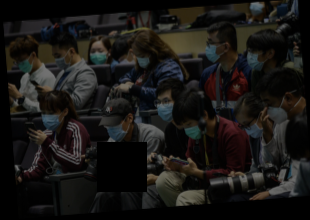with_mask: (263, 94, 287, 124), (245, 44, 268, 71), (102, 119, 129, 142), (238, 116, 264, 139), (41, 104, 64, 130), (155, 94, 175, 123), (181, 115, 204, 140), (205, 34, 224, 63), (88, 44, 110, 64), (132, 48, 152, 69), (52, 48, 72, 68), (13, 55, 34, 73), (117, 52, 136, 66)
